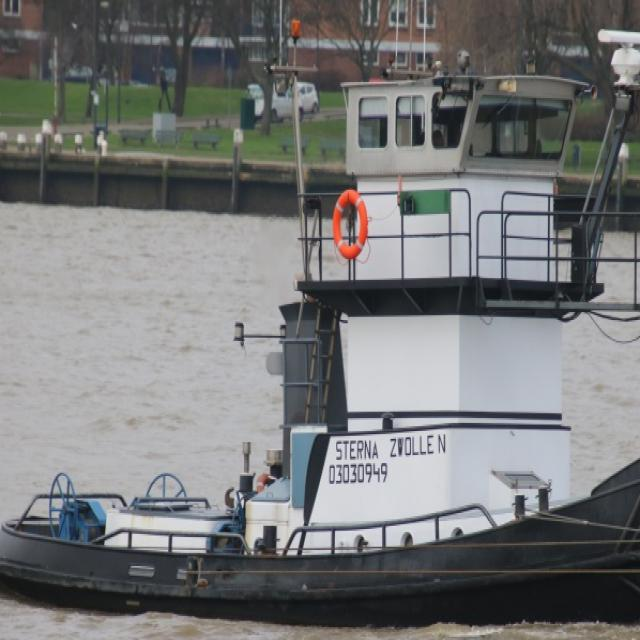tugboat: (1, 20, 640, 640)
